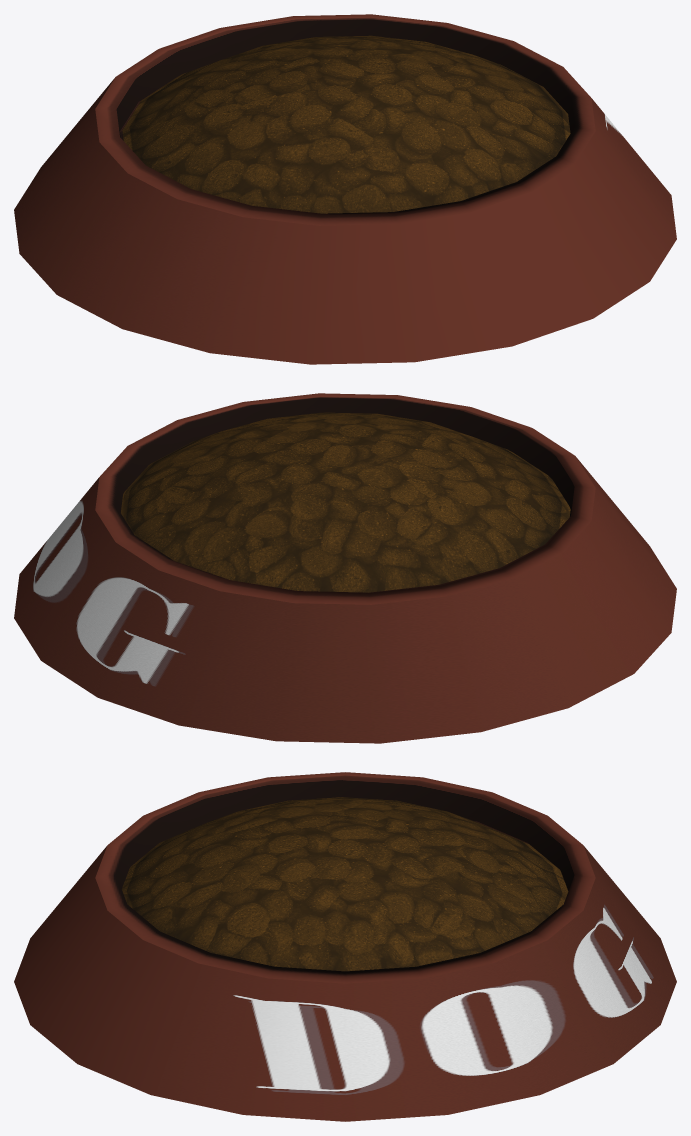
Rendered from FoodDog.fbx.
3 renders of one model, top to bottom at view 1: azimuth 30°, elevation 25°; view 2: azimuth 150°, elevation 25°; view 3: azimuth 270°, elevation 25°, orthographic.
Visible parts, largest first — view 1: pCylinder5, pSphere1; view 2: pCylinder5, pSphere1; view 3: pCylinder5, pSphere1.
Part boxes in pixels (left/top/right/bottom): pCylinder5: left=14, top=14, right=676, bottom=364; pSphere1: left=122, top=35, right=570, bottom=213; pCylinder5: left=14, top=393, right=676, bottom=743; pSphere1: left=121, top=412, right=570, bottom=592; pCylinder5: left=14, top=772, right=676, bottom=1121; pSphere1: left=121, top=797, right=568, bottom=971.
Size of the model in its own units: 1.45 by 0.3636 by 1.45.
